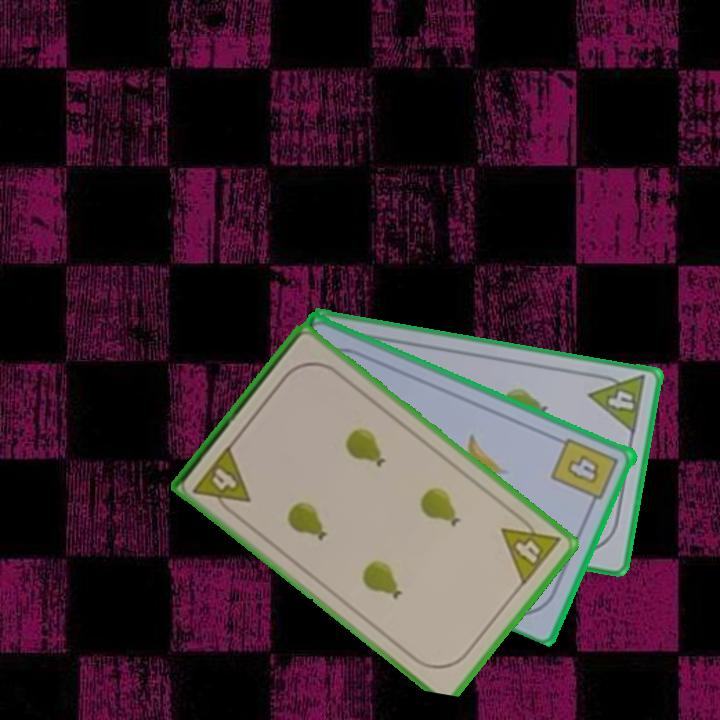4b: (548, 434, 622, 511)
4p: (497, 508, 564, 589), (190, 441, 254, 520), (585, 369, 648, 437)
